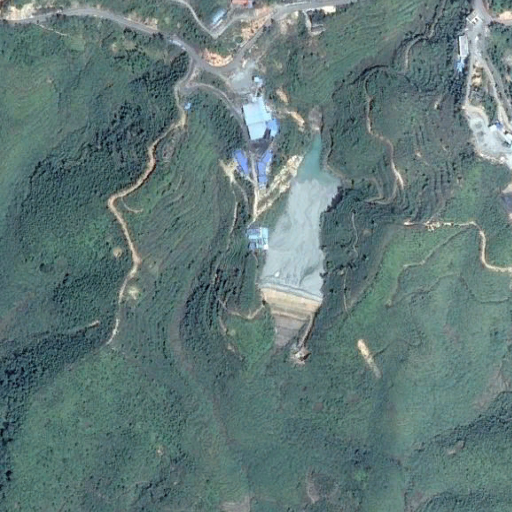tp: (256, 129, 343, 348)
